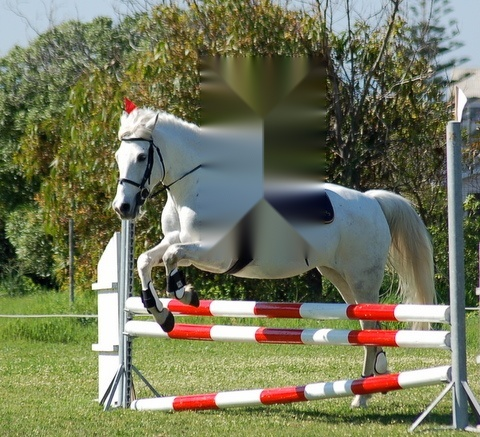horse: (112, 100, 441, 409)
